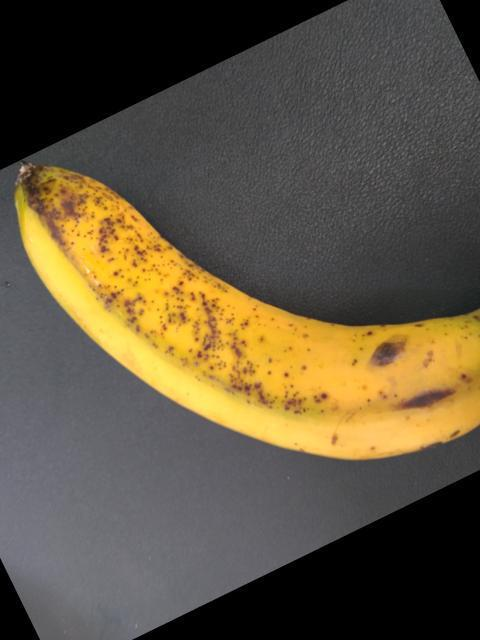ripe: (20, 141, 479, 498)
